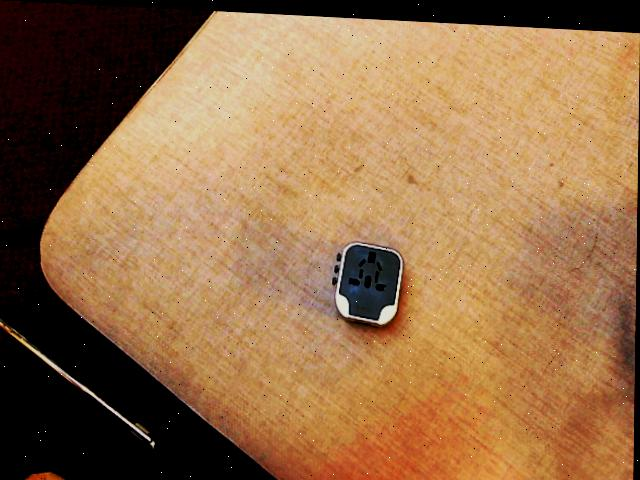adapter: (332, 235, 404, 323)
